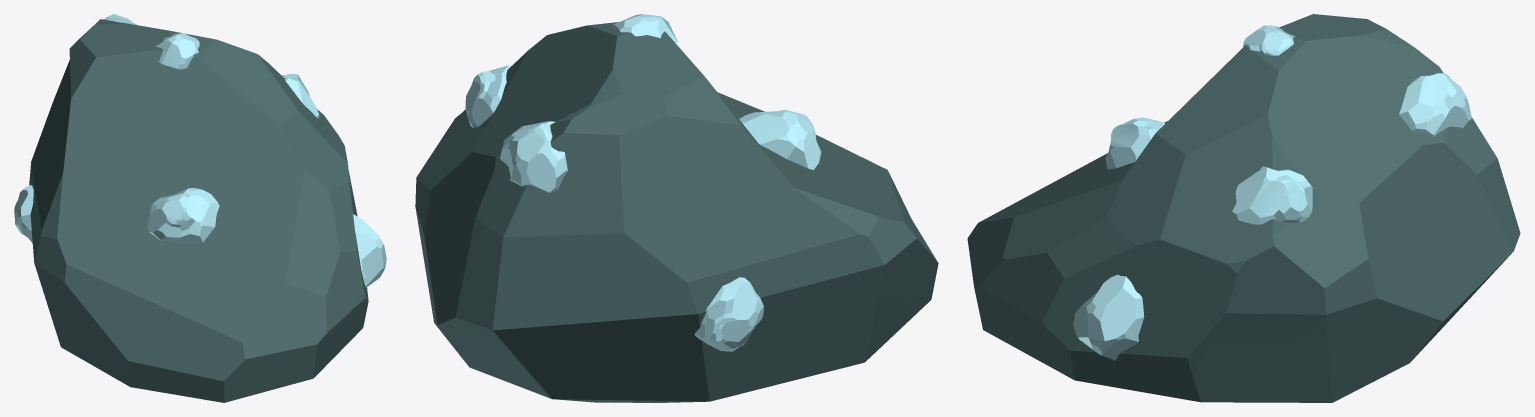
Rendered from Diamond1.fbx.
The picture shows the model from 3 angles, left to right: view 1: azimuth 30°, elevation 25°; view 2: azimuth 150°, elevation 25°; view 3: azimuth 270°, elevation 25°; orthographic projection. The views are drawn at different scales.
Parts seen in each view (by area): view 1: Rock, Nodes; view 2: Rock, Nodes; view 3: Rock, Nodes.
Part boxes in pixels (x1,y1,x2,y2): Rock: (29,19,368,402); Nodes: (14,14,386,287); Rock: (415,22,938,402); Nodes: (465,14,821,351); Rock: (967,14,1520,402); Nodes: (1073,25,1471,360).
Bounding box in the file's own units: 155 × 128 × 198.
